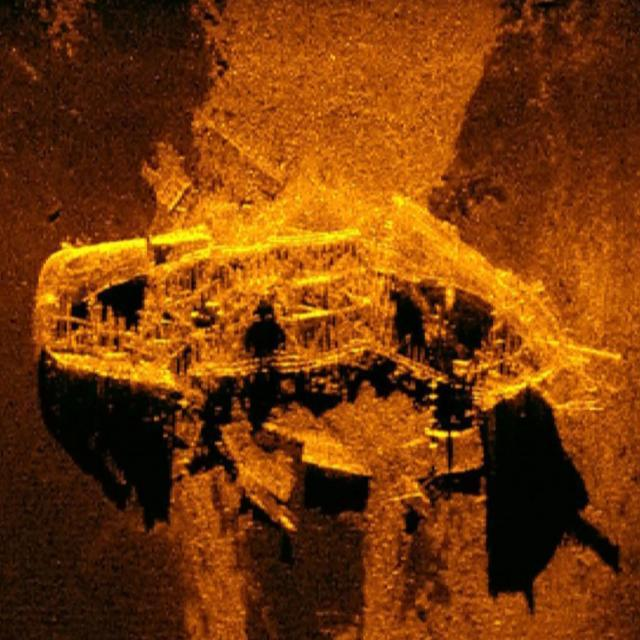shipwreck: (35, 229, 616, 443)
